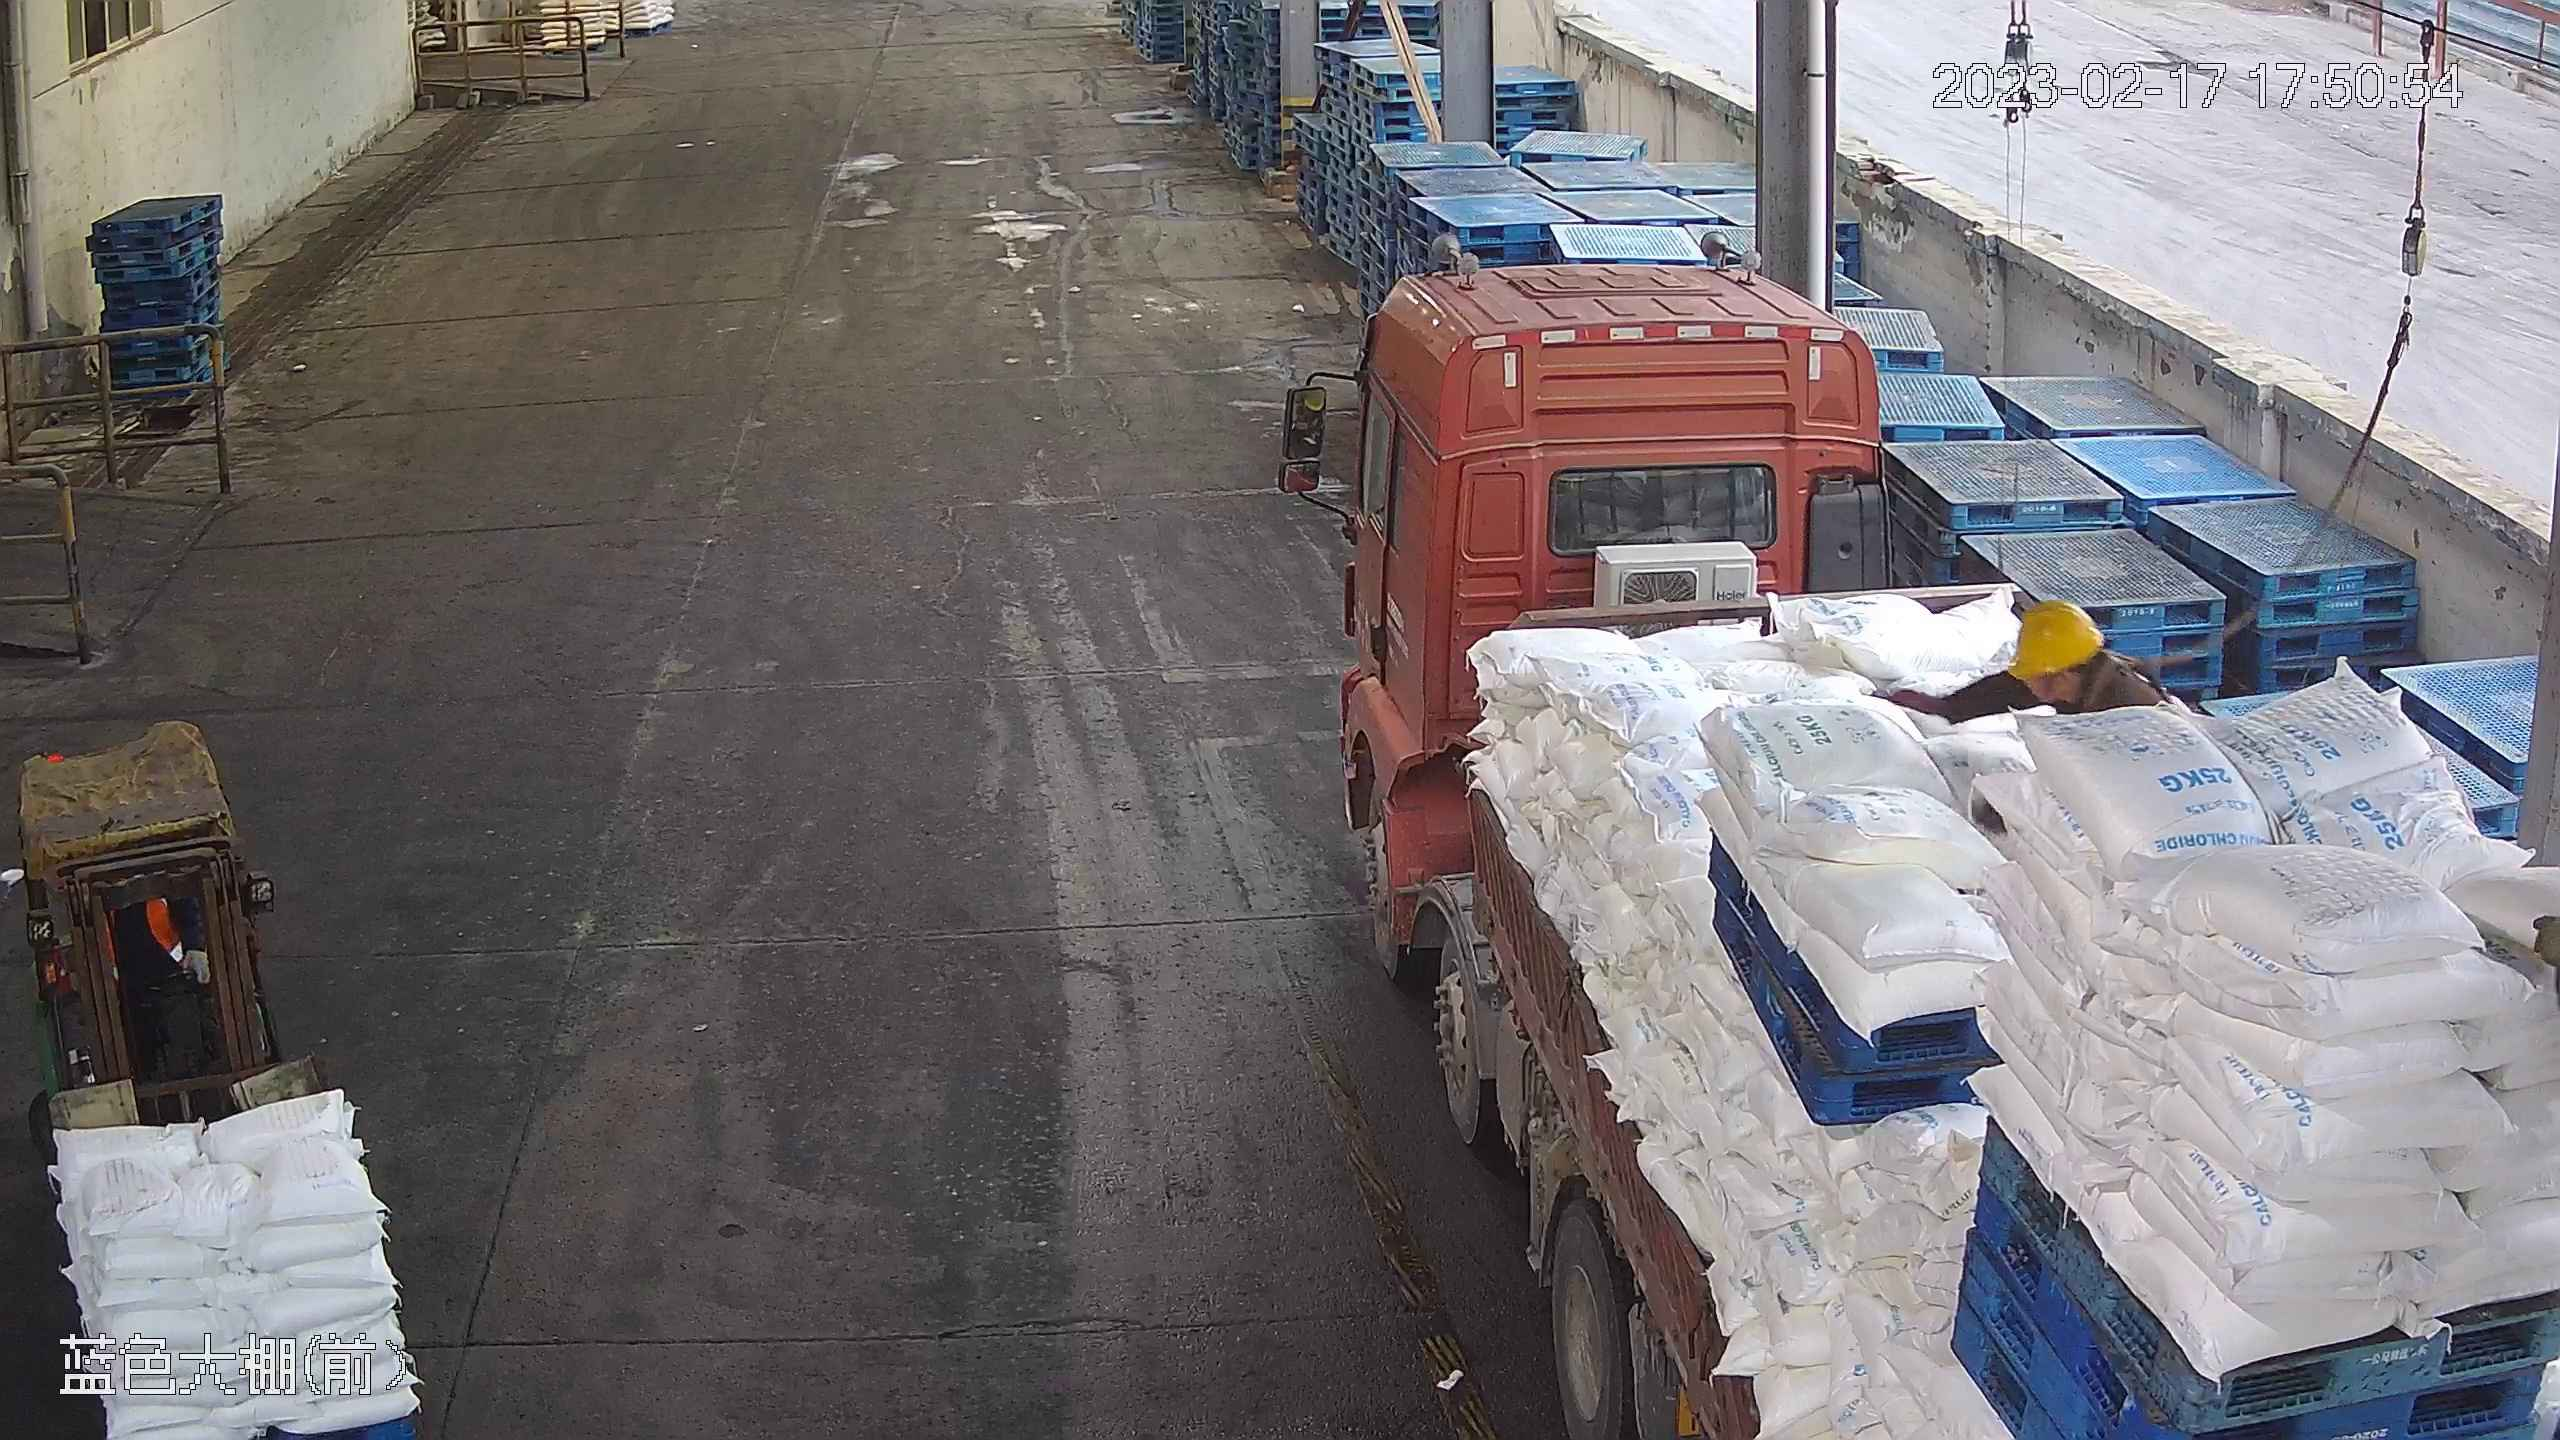belt: (2018, 649, 2138, 712)
head: (2006, 601, 2158, 705)
helmet: (2006, 595, 2104, 677)
truck: (1278, 233, 2560, 1440)
